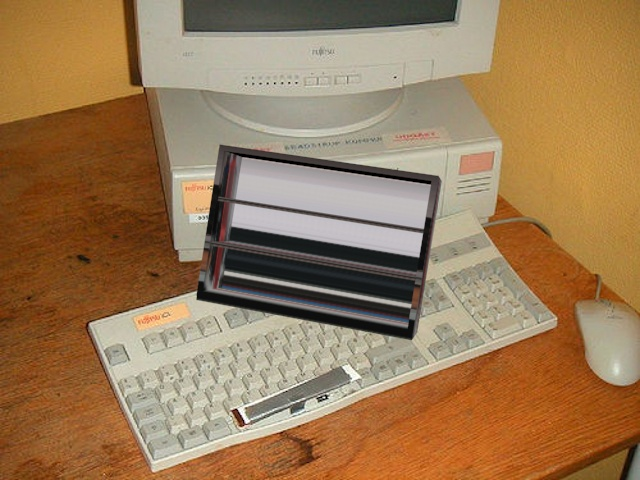bookcase: (192, 144, 448, 344)
